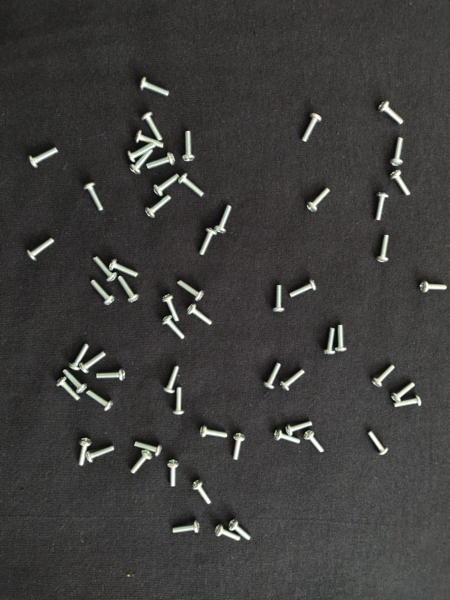shortscrew: (377, 89, 406, 133), (305, 179, 334, 215), (20, 235, 58, 262), (81, 177, 106, 217), (386, 168, 417, 200), (367, 430, 397, 463), (24, 144, 65, 168), (214, 196, 238, 237), (272, 370, 309, 394), (142, 193, 173, 221), (127, 447, 155, 478), (72, 436, 96, 472), (136, 75, 175, 97), (115, 274, 140, 308), (124, 139, 164, 160), (387, 133, 407, 175), (162, 316, 191, 344), (300, 111, 323, 146), (365, 364, 400, 387), (194, 226, 217, 260), (85, 444, 119, 467), (129, 135, 166, 156), (90, 279, 115, 310), (141, 112, 166, 143), (107, 257, 147, 276), (283, 415, 316, 438), (387, 381, 420, 404), (90, 252, 117, 280), (285, 278, 321, 299), (80, 347, 109, 373), (164, 520, 211, 536), (191, 477, 213, 511), (86, 391, 117, 415), (161, 359, 181, 396), (162, 459, 185, 491), (149, 172, 181, 194), (262, 360, 285, 390), (269, 430, 306, 448), (177, 280, 208, 301), (372, 189, 390, 225), (132, 439, 168, 457), (164, 294, 184, 326), (229, 431, 247, 466), (92, 366, 131, 382), (229, 517, 255, 541), (304, 430, 327, 457), (135, 144, 155, 175), (68, 343, 90, 371), (374, 231, 391, 267), (418, 278, 450, 297), (56, 379, 81, 403), (182, 175, 208, 198), (181, 129, 198, 164), (171, 382, 187, 419), (196, 424, 233, 440), (189, 305, 218, 325), (62, 368, 86, 392), (392, 394, 424, 412), (335, 320, 350, 358), (269, 284, 286, 317), (212, 526, 246, 541), (322, 324, 336, 359), (145, 154, 176, 169)
